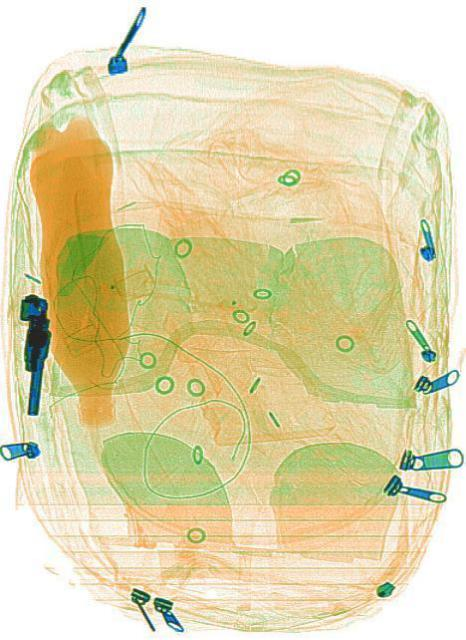Gun: (20, 293, 50, 413)
